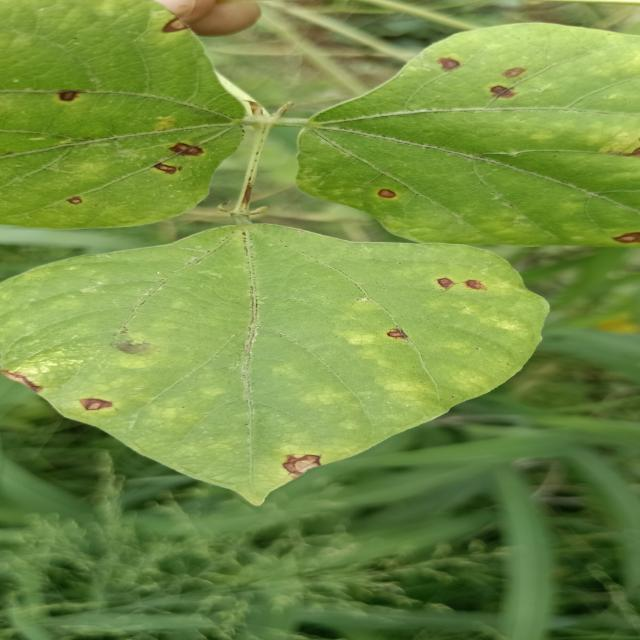Dolicos bean_cercospora leaf spot: (0, 224, 548, 508)
